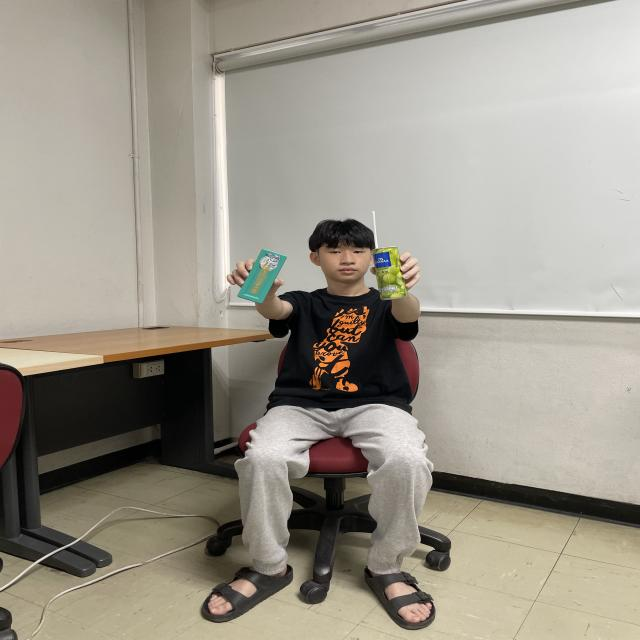can: (372, 246, 408, 300)
